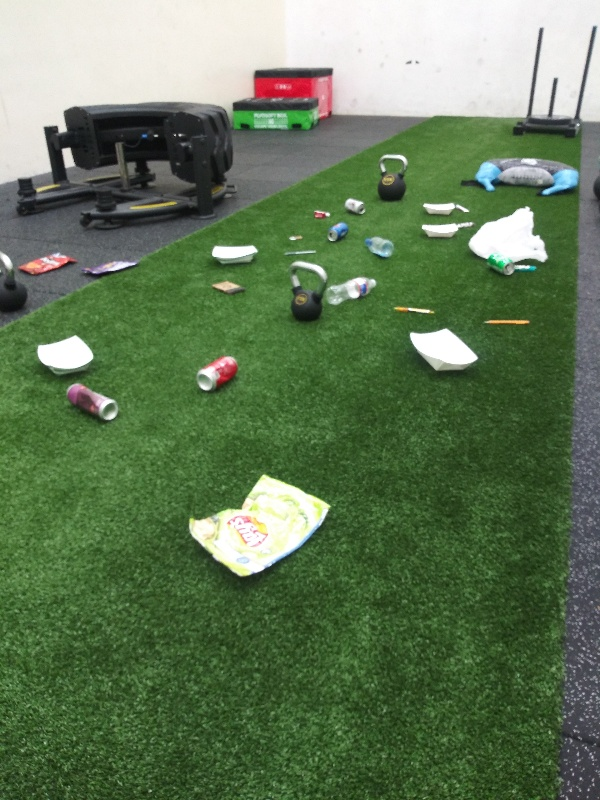bag: (186, 473, 336, 580), (15, 248, 77, 278), (81, 259, 143, 278)
bottle: (324, 274, 381, 309), (361, 236, 398, 258)
can: (65, 381, 120, 424), (193, 354, 243, 397), (485, 251, 516, 278), (326, 218, 351, 244), (344, 195, 367, 216)
plate: (405, 326, 480, 377), (36, 333, 97, 380), (208, 242, 260, 264), (416, 221, 464, 239), (419, 200, 458, 214)
